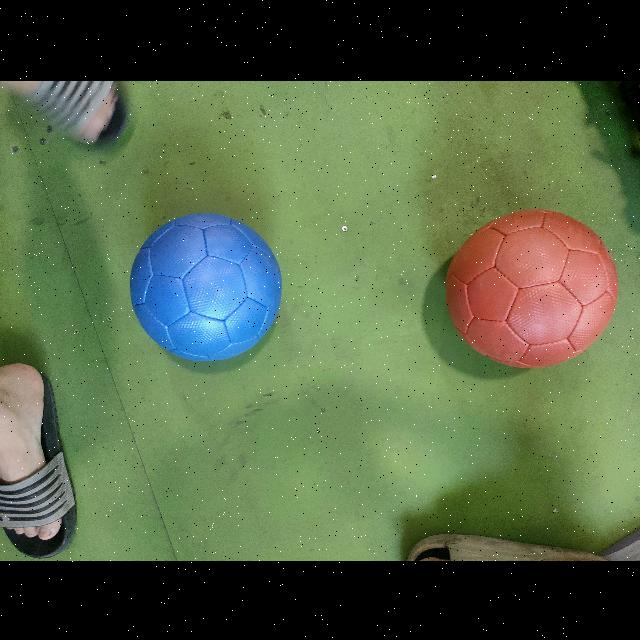B: (130, 212, 281, 360)
R: (447, 209, 618, 368)
